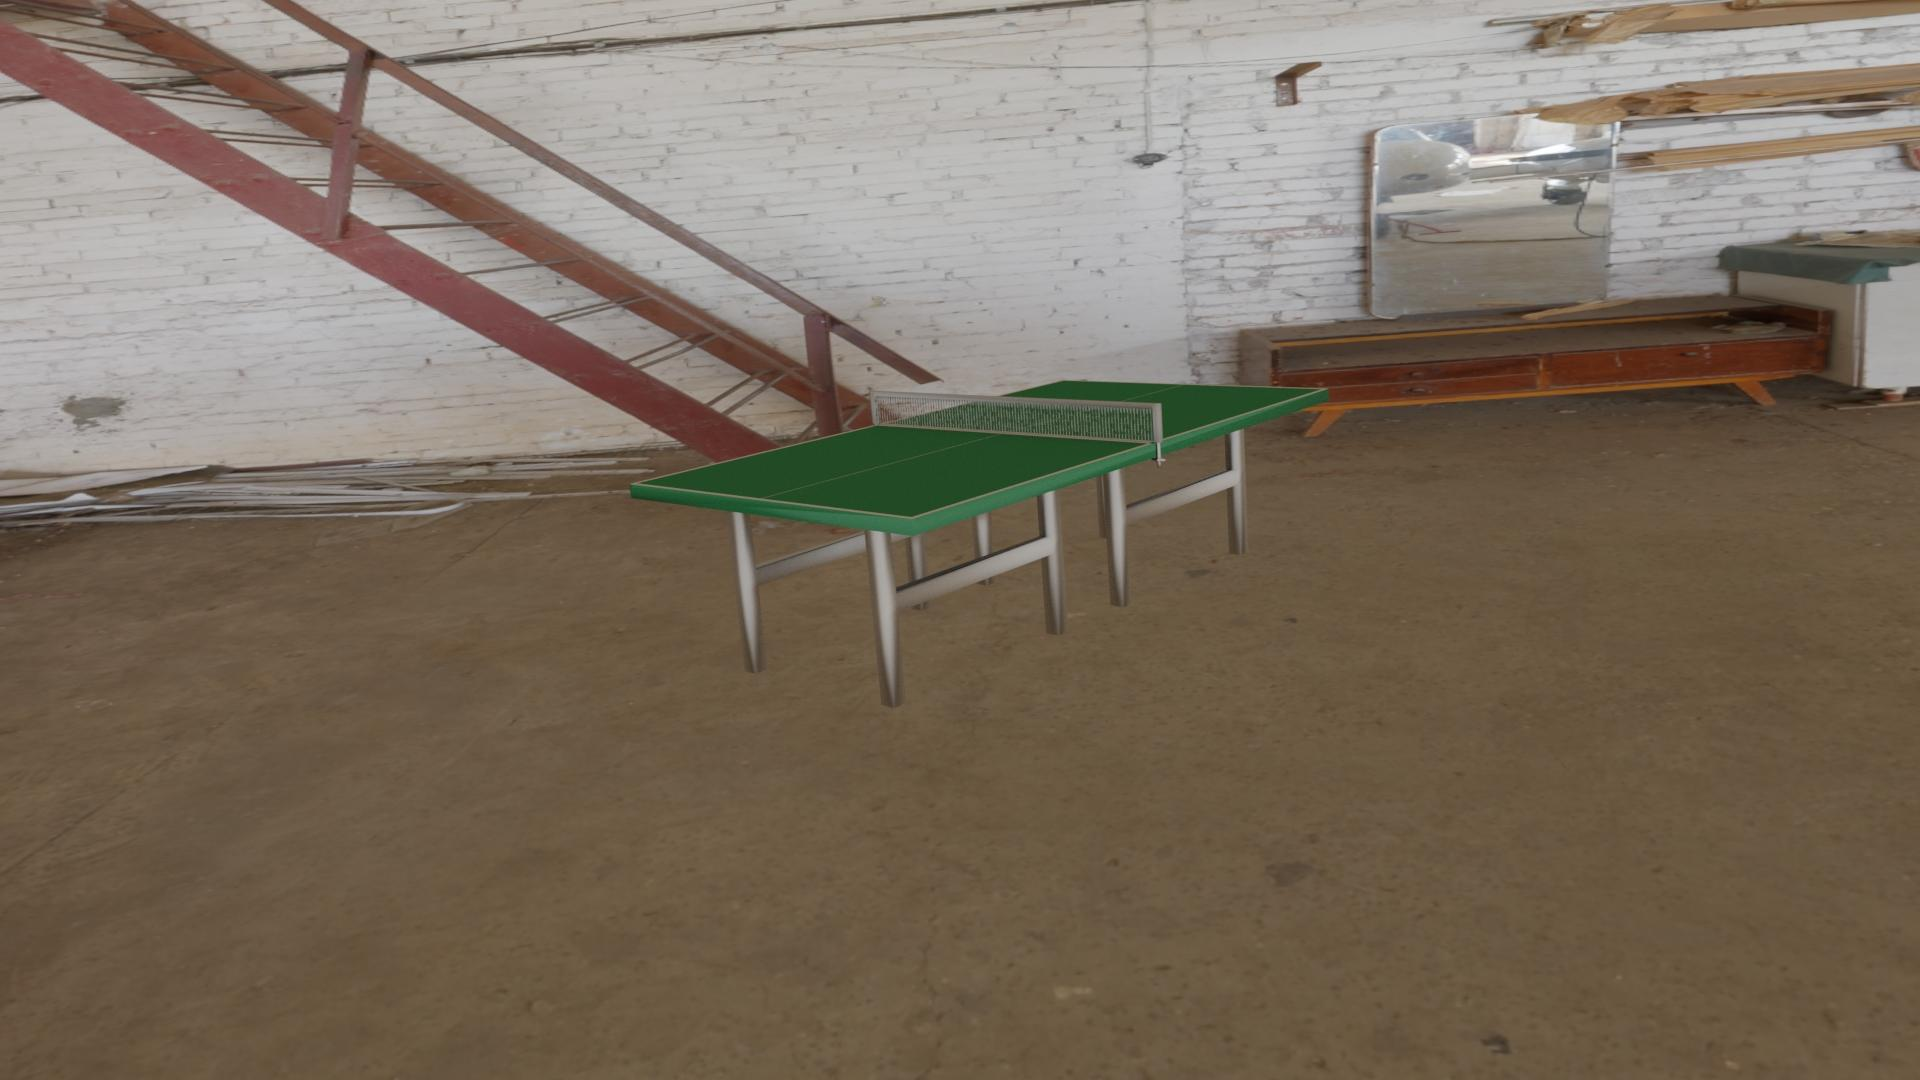table: (637, 381, 1323, 517)
